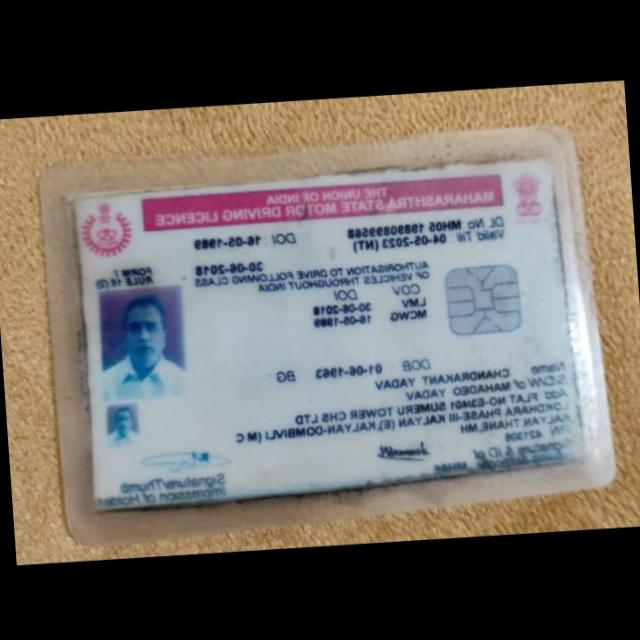driving_licence: (64, 147, 596, 527)
